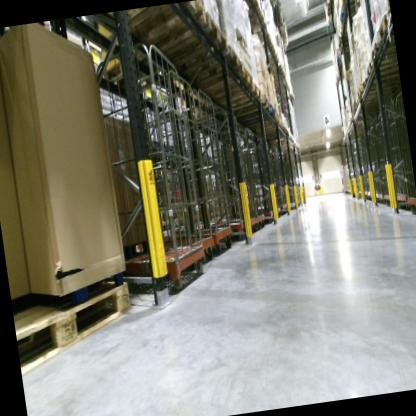pallet: (11, 268, 140, 378), (122, 0, 211, 66), (152, 4, 233, 76), (102, 47, 180, 102), (184, 39, 246, 90), (204, 65, 257, 104), (218, 74, 263, 111), (224, 93, 272, 120), (235, 98, 276, 126), (354, 78, 399, 100), (358, 65, 399, 89), (366, 34, 396, 64), (364, 53, 398, 78), (374, 11, 394, 43)
pallet_truck: (310, 174, 323, 199)
